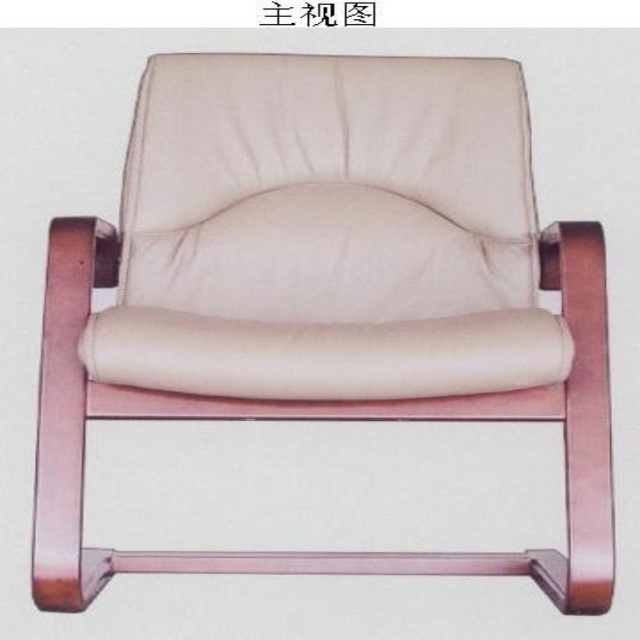obstacle: (32, 54, 613, 614)
